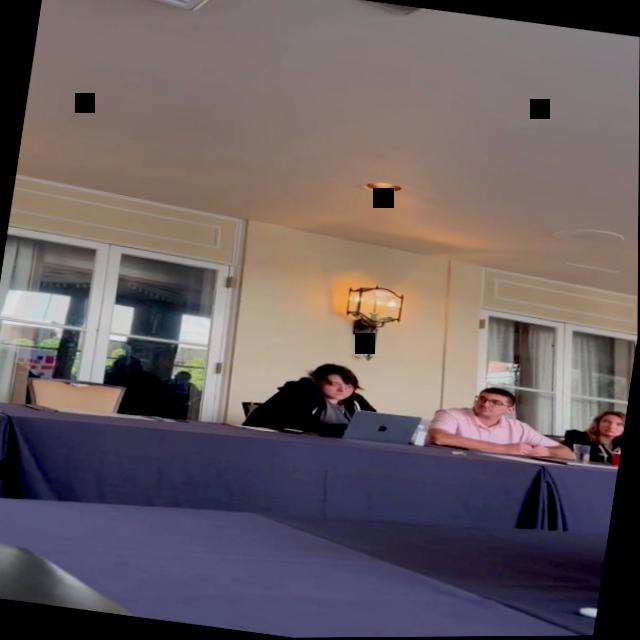NO-Mask: (321, 372, 359, 405), (470, 393, 510, 422), (596, 415, 626, 441)
